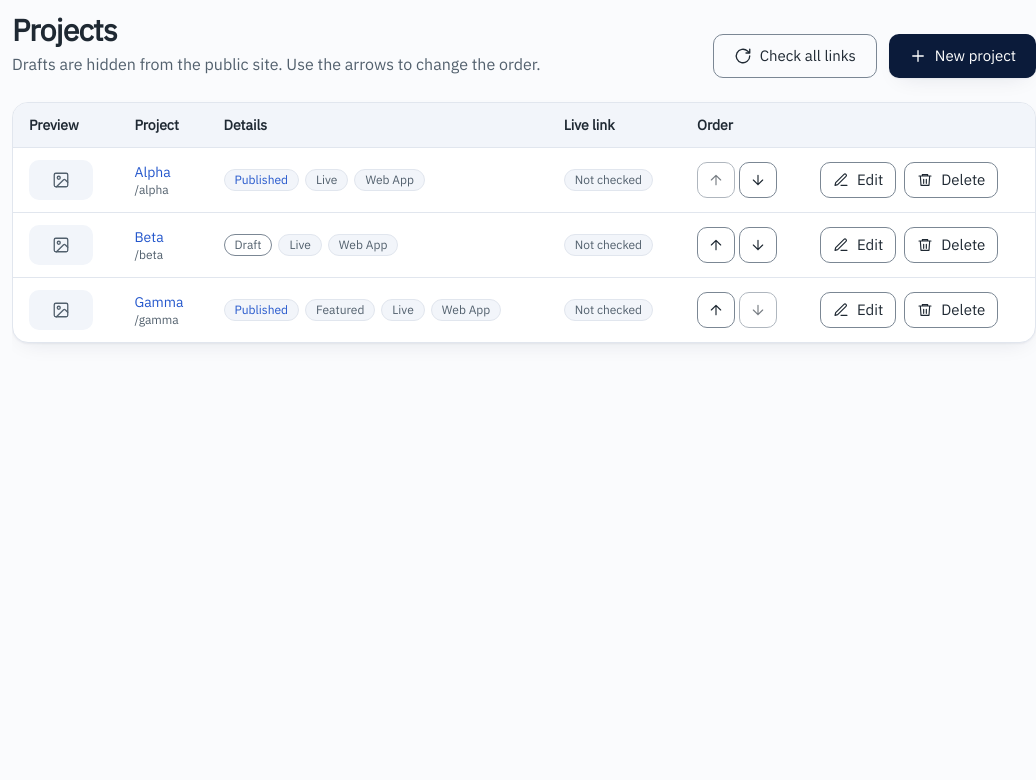
Test: ProjectsPage › rolls the order back and shows an error if the server rejects the reorder
Expected: the link "Alpha" is shown, [134,163,171,181]
What coordinates should you click on to do the following:
click the button named "Move Beta up"
I would click on:
 (716, 245)
Its box is [697,227,735,263].
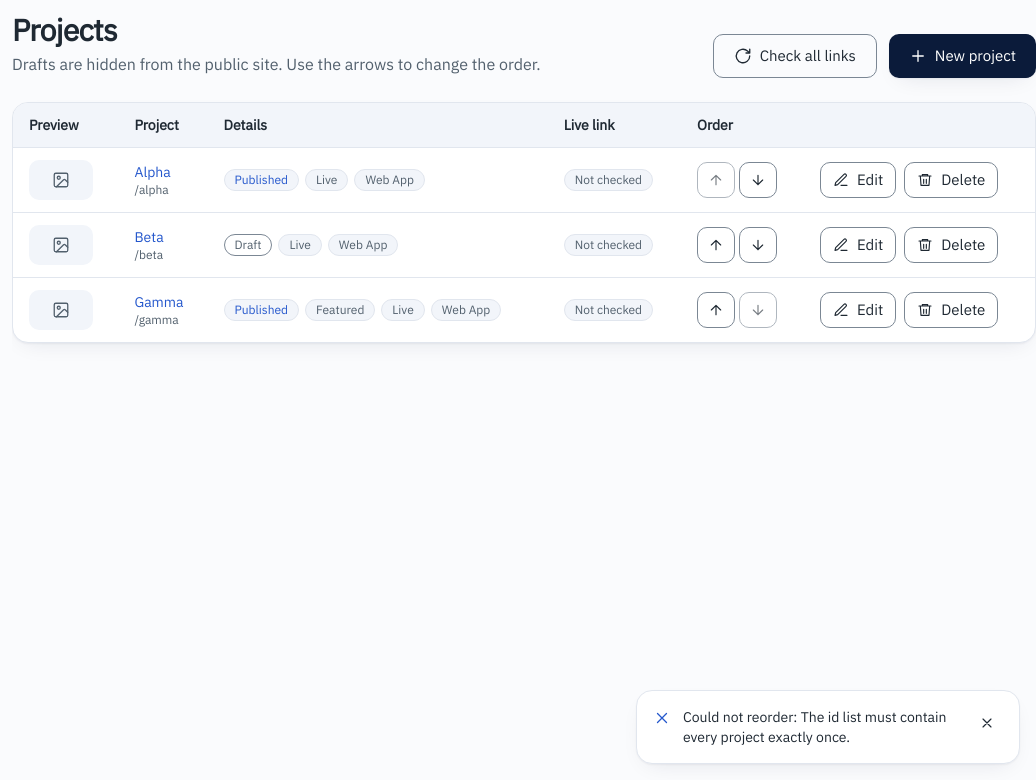
Result: the text "Could not reorder: The id list must contain" is shown at [683,708,946,746]
